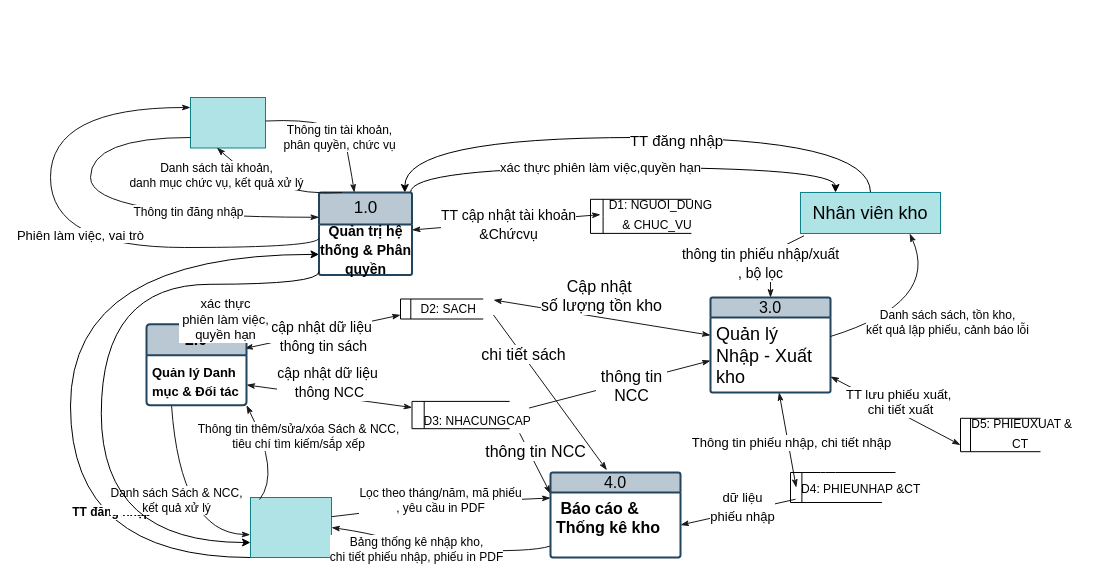
Image size: 1098x580. Some labels were removed from this diagram. The box of each missing label's shape, as (x1, y1, x2, y2) in pixels:
Quản lý kho: (250, 496, 332, 558)
Quản trị viên: (190, 96, 266, 148)
